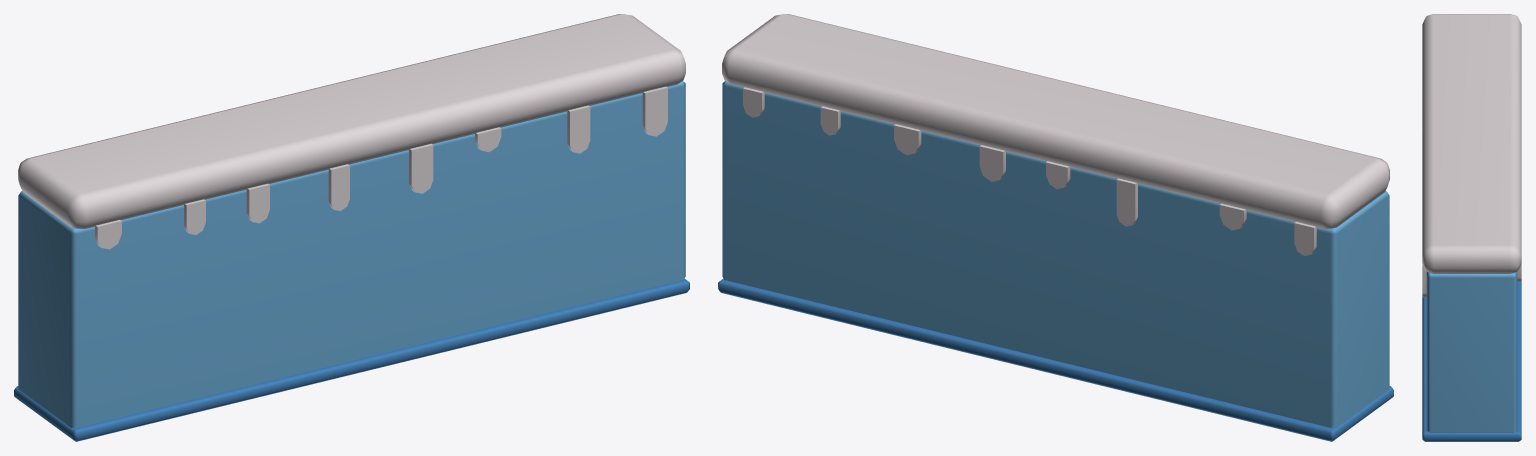
Rendered from candy-border.glb.
3 views of the same model, side by side, from view 1: azimuth 30°, elevation 25°; view 2: azimuth 150°, elevation 25°; view 3: azimuth 270°, elevation 25° (orthographic). The views are drawn at different scales.
Visible parts, largest first — view 1: candy-border; view 2: candy-border; view 3: candy-border.
Part boxes in pixels (bbox=[...]): candy-border: bbox=[14, 14, 689, 441]; candy-border: bbox=[718, 14, 1393, 441]; candy-border: bbox=[1422, 14, 1521, 441].
Bounding box in the file's own units: 4 × 1.5 × 0.7.
